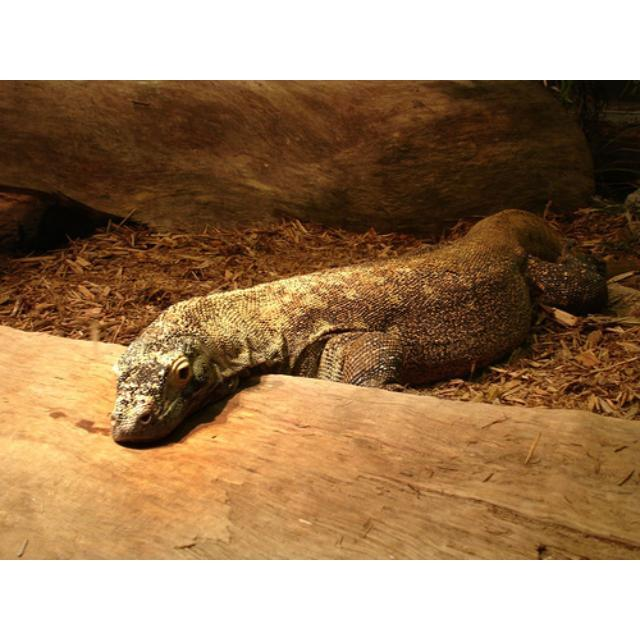KomodoDragon: (103, 206, 607, 446)
